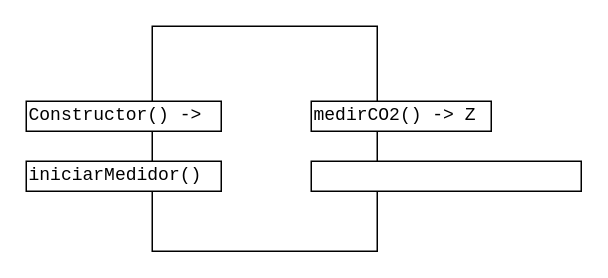
The diagram is 608 pixels wide and 278 high, and some of its shapes have lost their labels. Each missing label, with the centre of its shape:
Medidor: [264,138]
medirTemperatura() -> Z: [445,175]
